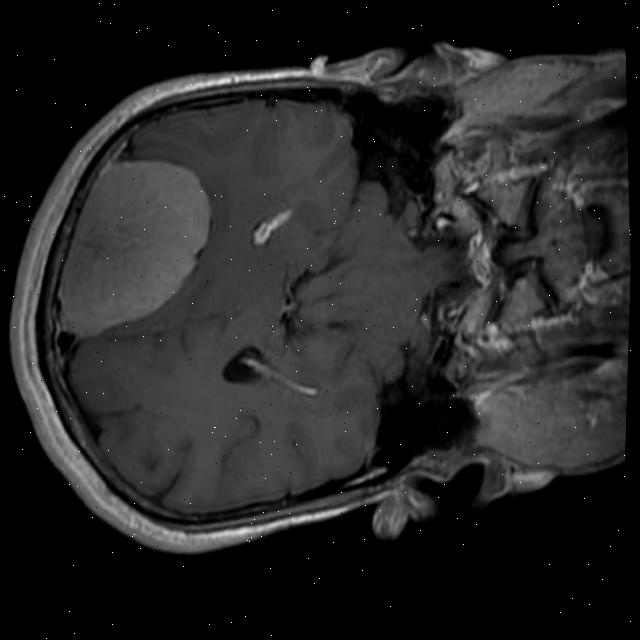Meningioma: (45, 146, 222, 345)
